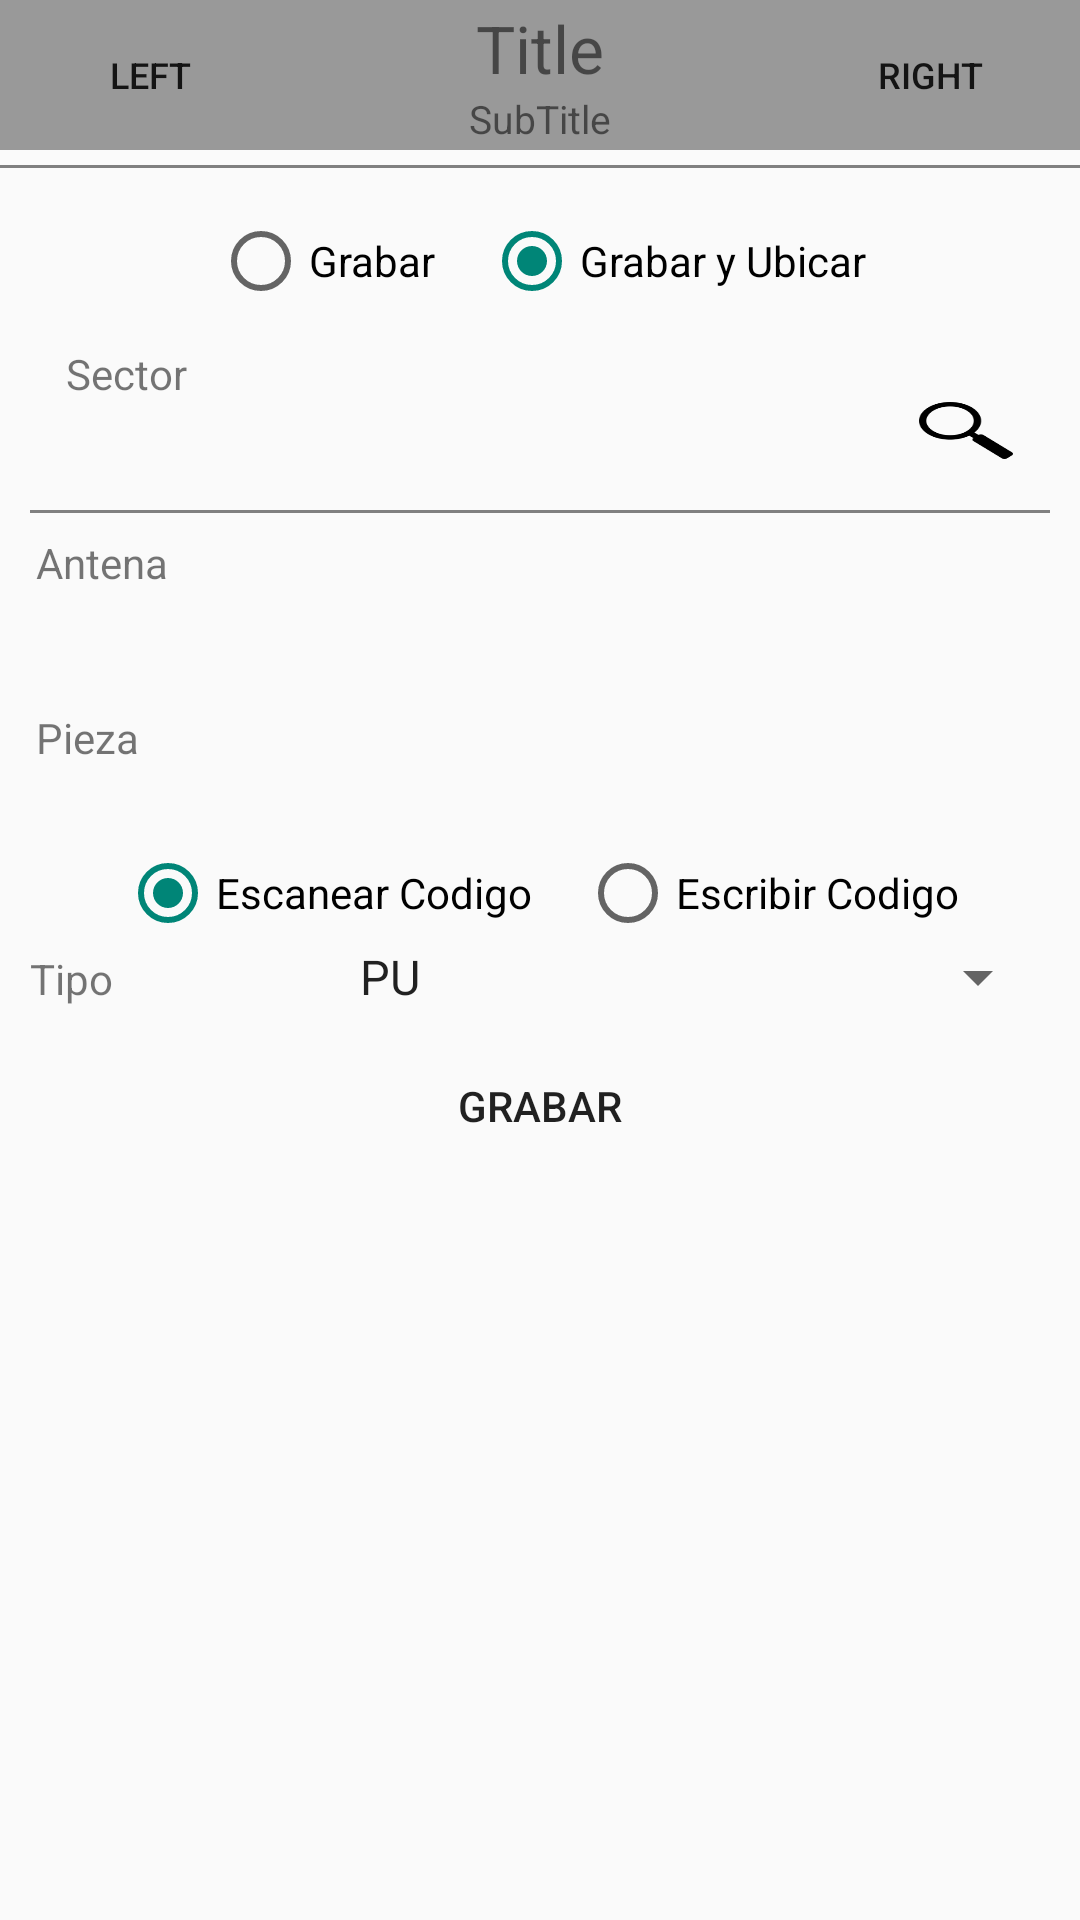

Icons on this 1080px x 1920px Android screen, each with its box as (x1, y1, x2, y2):
lupa: (919, 402, 1013, 459)
